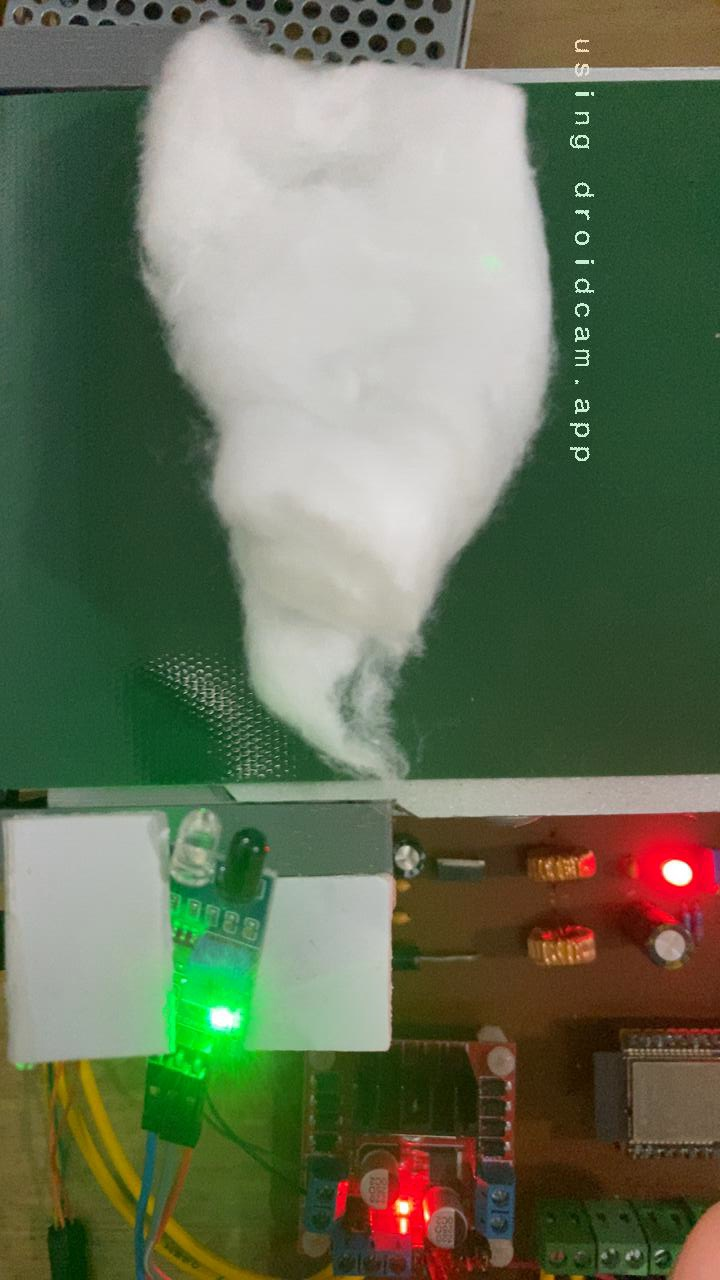cotton: (128, 88, 720, 811)
